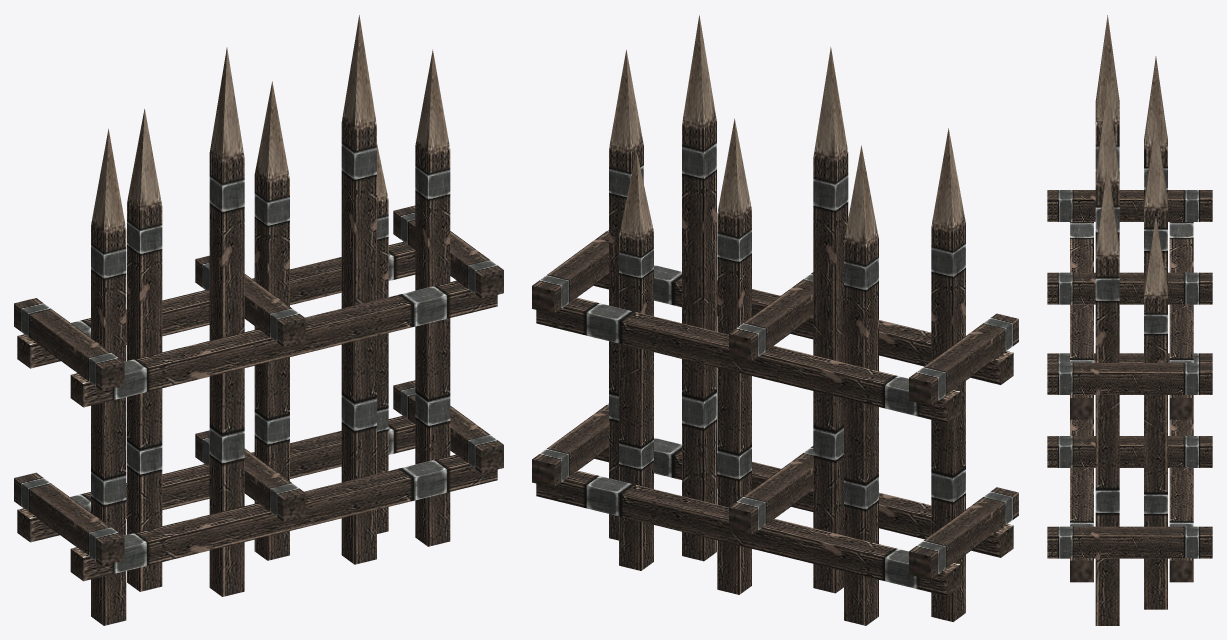
Rendered from wood_defance_A.FBX.
3 renders of one model, left to right at view 1: azimuth 30°, elevation 25°; view 2: azimuth 150°, elevation 25°; view 3: azimuth 270°, elevation 25°, orthographic. The views are drawn at different scales.
Parts seen in each view (by area): view 1: Box006, Box007, Box008, Box009, Box018, Box003, Box011, Box001, Box017, Box019, Box013, Box022 (+5 smaller); view 2: Box006, Box007, Box017, Box019, Box003, Box001, Box011, Box002, Box008, Box009, Box018, Box013 (+5 smaller); view 3: Box008, Box002, Box024, Box021, Box020, Box013, Box023, Box017, Box009, Box019, Box018, Box001 (+5 smaller).
Boxes of the visible parts, x1=… form: Box006: x1=341, y1=15, x2=376, y2=564; Box007: x1=209, y1=47, x2=244, y2=596; Box008: x1=415, y1=49, x2=450, y2=546; Box009: x1=70, y1=280, x2=497, y2=407; Box018: x1=70, y1=454, x2=497, y2=581; Box003: x1=127, y1=109, x2=162, y2=591; Box011: x1=91, y1=129, x2=126, y2=625; Box001: x1=254, y1=81, x2=289, y2=560; Box017: x1=17, y1=241, x2=415, y2=368; Box019: x1=17, y1=415, x2=415, y2=542; Box013: x1=14, y1=298, x2=124, y2=390; Box022: x1=14, y1=472, x2=124, y2=565; Box006: x1=682, y1=15, x2=716, y2=561; Box007: x1=813, y1=47, x2=848, y2=593; Box017: x1=536, y1=297, x2=960, y2=423; Box019: x1=536, y1=470, x2=960, y2=596; Box003: x1=844, y1=145, x2=878, y2=625; Box001: x1=717, y1=118, x2=751, y2=594; Box011: x1=931, y1=128, x2=965, y2=621; Box002: x1=619, y1=151, x2=653, y2=570; Box008: x1=609, y1=49, x2=643, y2=540; Box009: x1=593, y1=265, x2=1013, y2=384; Box018: x1=594, y1=438, x2=1013, y2=557; Box013: x1=909, y1=313, x2=1018, y2=405; Box008: x1=1095, y1=163, x2=1119, y2=625; Box002: x1=1144, y1=216, x2=1167, y2=609; Box024: x1=1047, y1=526, x2=1212, y2=558; Box021: x1=1047, y1=363, x2=1212, y2=394; Box020: x1=1047, y1=272, x2=1212, y2=304; Box013: x1=1047, y1=190, x2=1212, y2=221; Box023: x1=1047, y1=436, x2=1212, y2=467; Box017: x1=1169, y1=222, x2=1193, y2=419; Box009: x1=1070, y1=222, x2=1093, y2=419; Box019: x1=1169, y1=419, x2=1193, y2=582; Box018: x1=1070, y1=419, x2=1093, y2=582; Box001: x1=1144, y1=118, x2=1167, y2=287.
Bounding box in the file's own units: 1.71 × 2.15 × 0.6328.
1 material, 1 textured.
